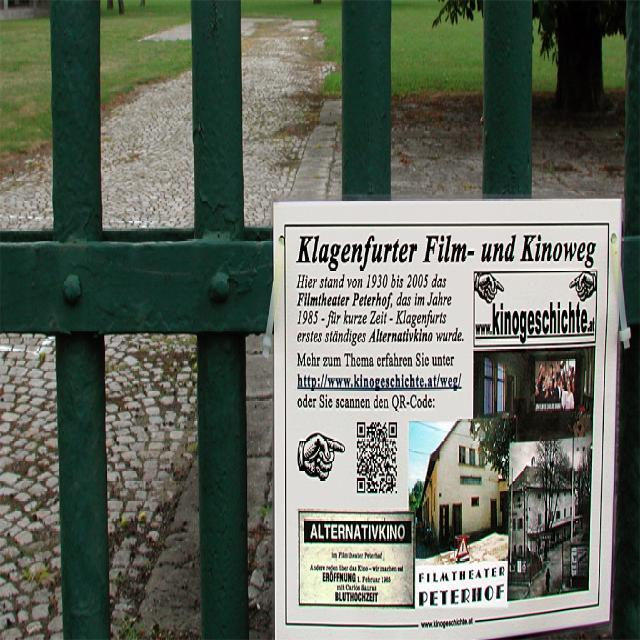qr-code: (356, 422, 396, 492)
